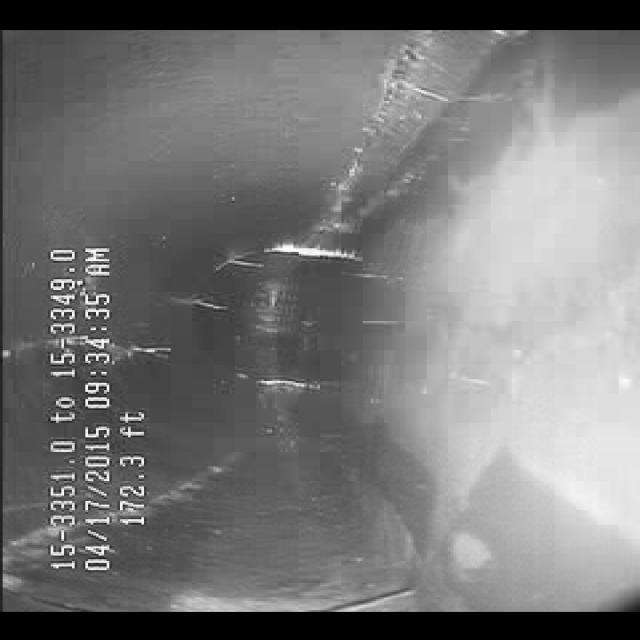Fracture: (297, 42, 437, 230)
